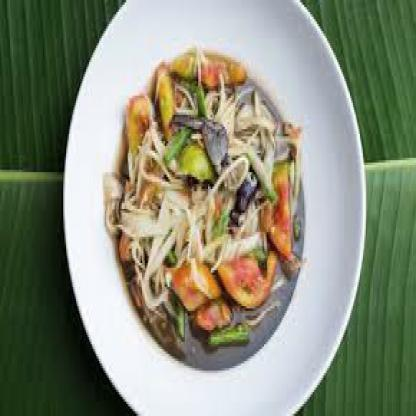Papaya Salad: (98, 48, 302, 378)
